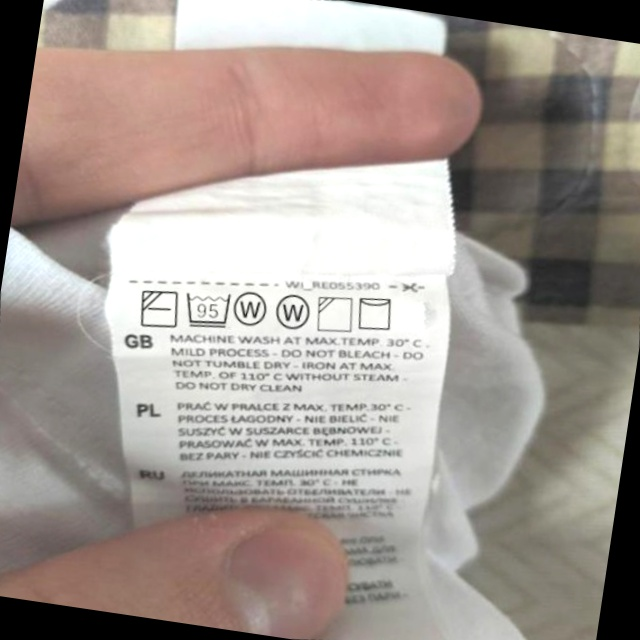95C: (179, 284, 237, 334)
dry_flat_in_shade: (134, 282, 184, 334)
line_dry: (351, 289, 400, 337)
shade_dry: (311, 290, 359, 338)
wet_clean: (270, 288, 316, 337), (229, 283, 274, 332)
